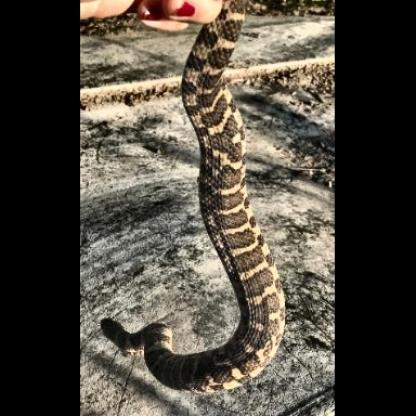Snake: (94, 25, 288, 393)
